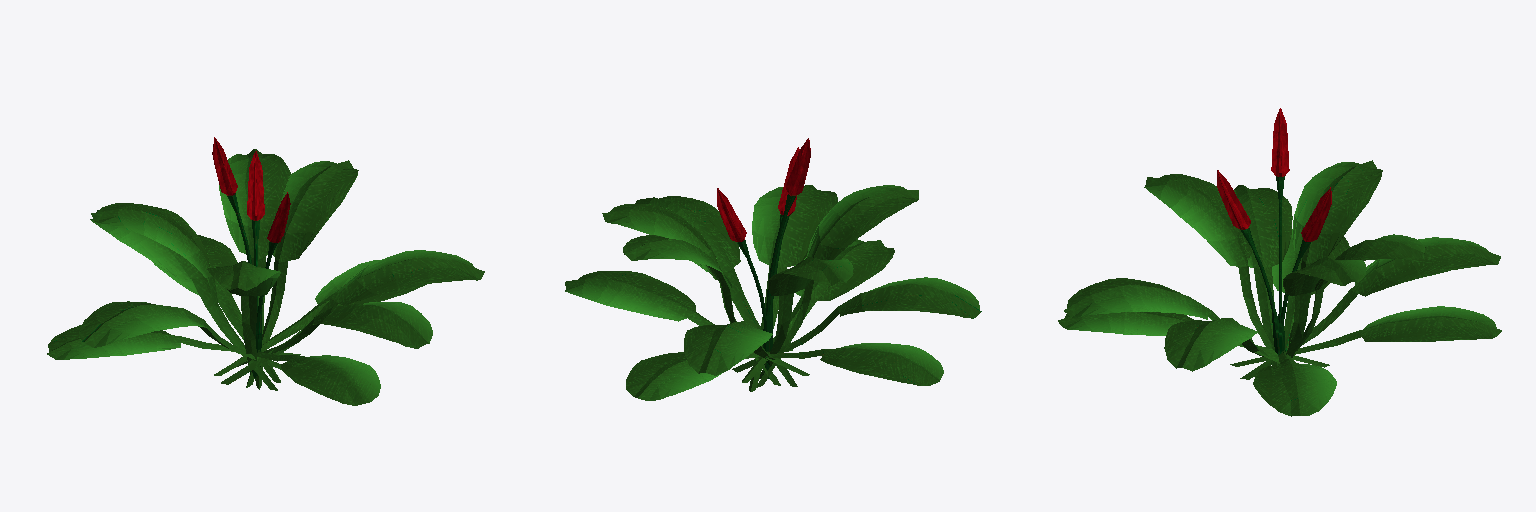
3 views of the same model, side by side, from view 1: azimuth 30°, elevation 25°; view 2: azimuth 150°, elevation 25°; view 3: azimuth 270°, elevation 25° (orthographic).
Parts seen in each view (by area): view 1: Plane.001; view 2: Plane.001; view 3: Plane.001.
Part boxes in pixels (bbox=[...]): Plane.001: bbox=[47, 137, 484, 405]; Plane.001: bbox=[565, 138, 981, 400]; Plane.001: bbox=[1058, 108, 1501, 416].
Bounding box in the file's own units: 6 × 3.81 × 5.99.
Materials: 1 (1 with a texture image).